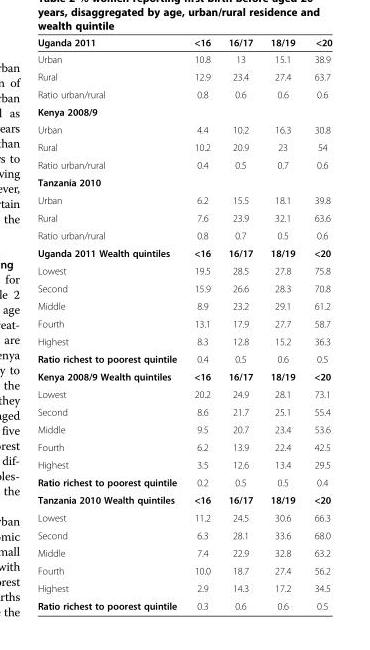table: (36, 36, 331, 611)
table column: (36, 36, 184, 611), (218, 36, 261, 611), (261, 36, 303, 611), (184, 36, 218, 611), (303, 36, 331, 611)
table column header: (36, 36, 331, 50)
table projected row header: (36, 102, 331, 120), (36, 173, 331, 191)
table row: (36, 67, 331, 85), (36, 102, 331, 120), (36, 120, 331, 138), (36, 155, 331, 173), (36, 173, 331, 191), (36, 208, 331, 226), (36, 243, 331, 261), (36, 261, 331, 279), (36, 296, 331, 314), (36, 314, 331, 332), (36, 349, 331, 367), (36, 367, 331, 385), (36, 402, 331, 420), (36, 420, 331, 438), (36, 455, 331, 473), (36, 490, 331, 508), (36, 508, 331, 526), (36, 543, 331, 561), (36, 561, 331, 579), (36, 50, 331, 67), (36, 85, 331, 102), (36, 138, 331, 155), (36, 191, 331, 208), (36, 226, 331, 243), (36, 279, 331, 296), (36, 332, 331, 349), (36, 385, 331, 402), (36, 438, 331, 455), (36, 473, 331, 490), (36, 526, 331, 543), (36, 579, 331, 596), (36, 596, 331, 611), (36, 36, 331, 50)
